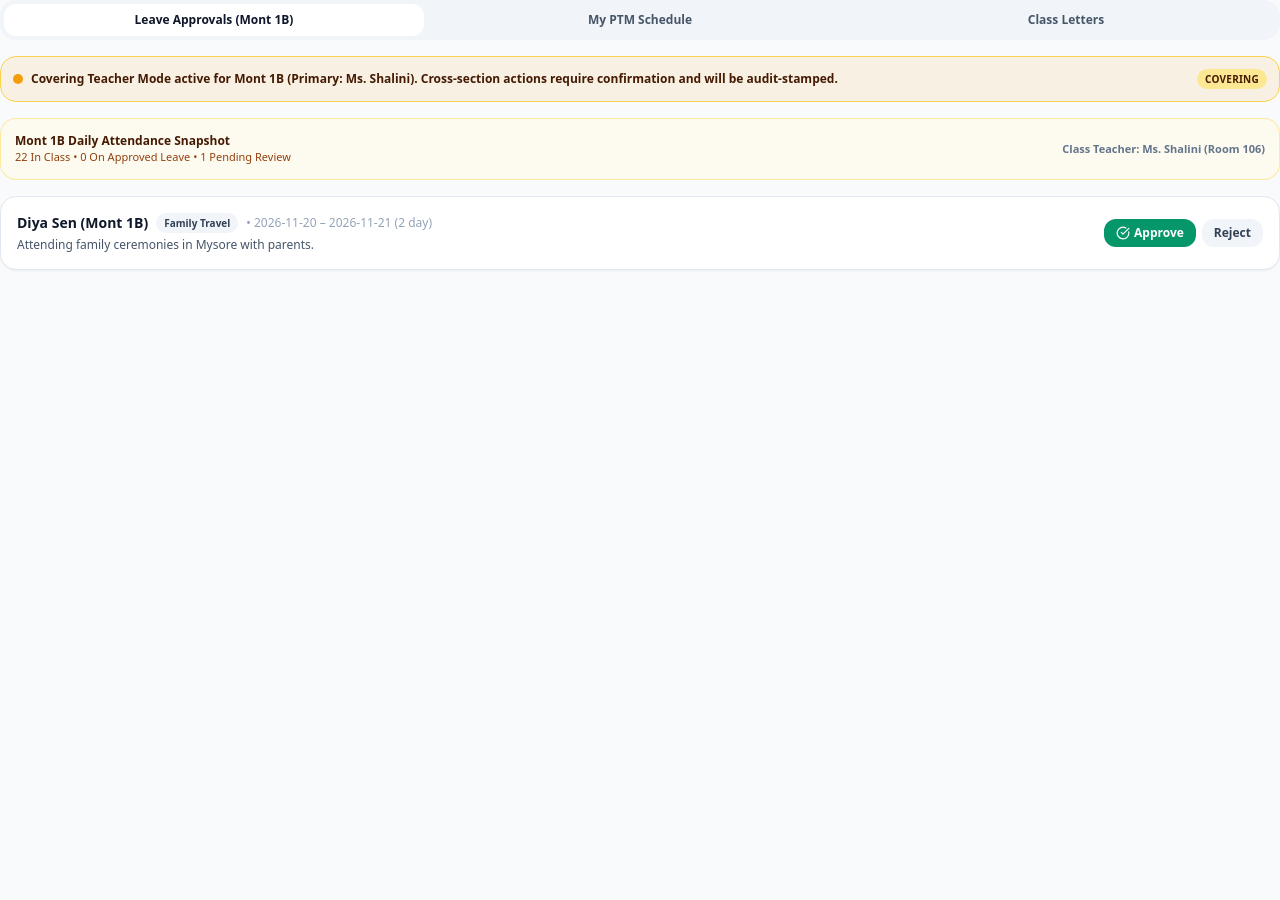
Suite: Covering Teacher Mode & Soft Guardrails › triggers soft guardrail confirmation modal on cross-section PTM slot deletion
Later steps or results of the test are not shown.
# Switch to PTM tab
Click the button "My PTM Schedule" at (640, 20), box top-left (430, 4), bottom-right (850, 36)
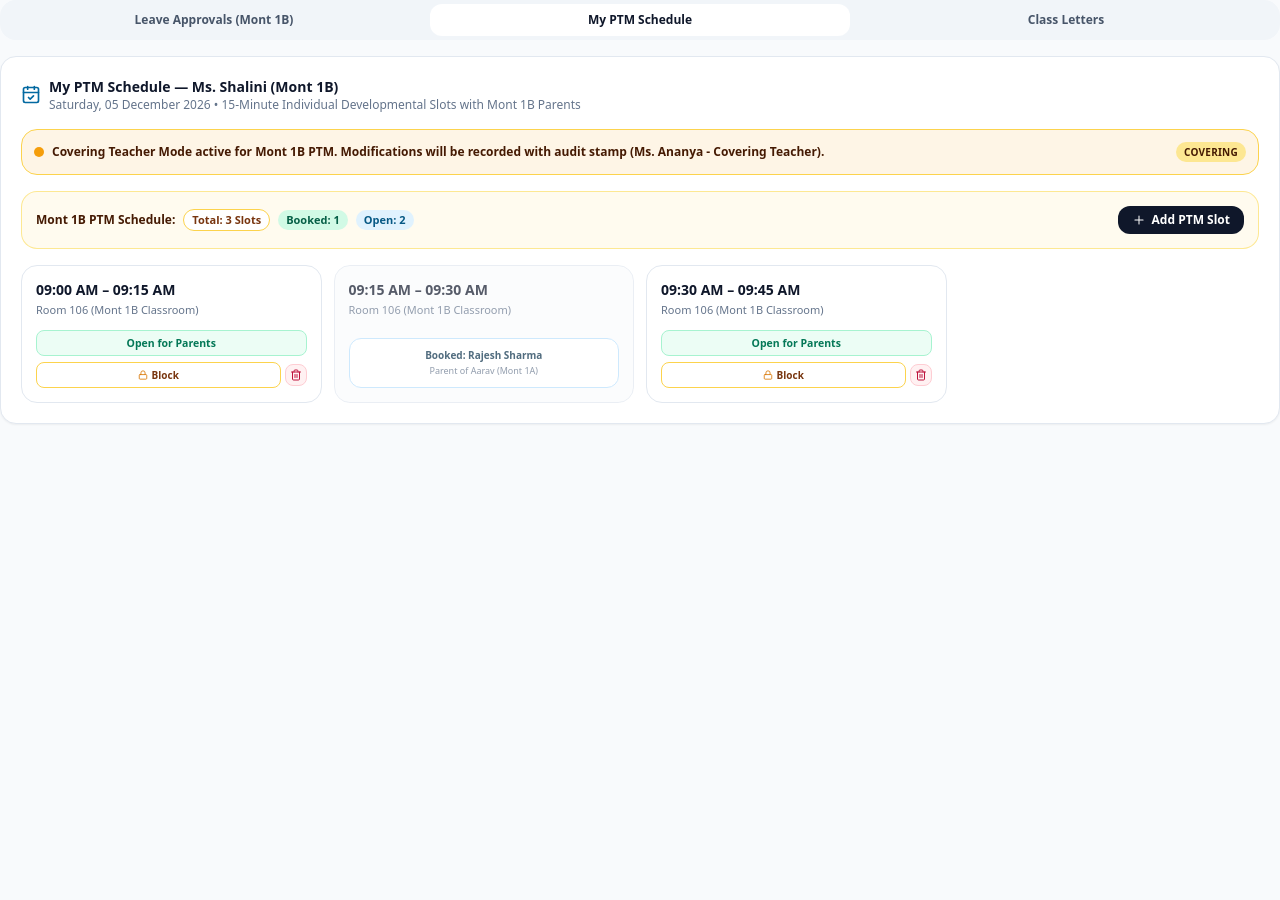
Expected: the button titled "Delete Slot" below "09:00 AM – 09:15 AM" is shown
Click the button titled "Delete Slot" below "09:00 AM – 09:15 AM" at (296, 375), box top-left (284, 364), bottom-right (306, 386)
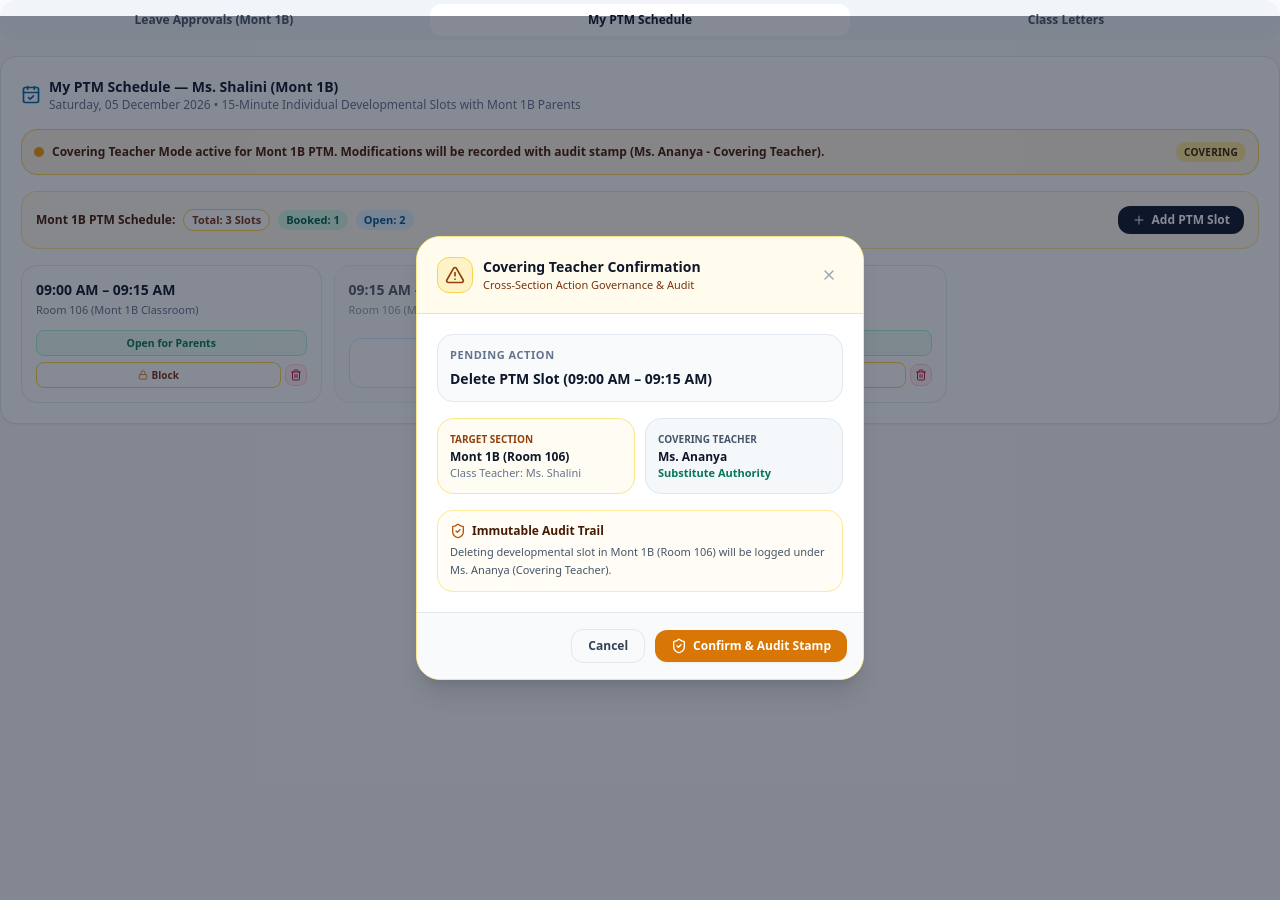
Expected: the heading "Covering Teacher Confirmation" is shown, top-left (483, 257), bottom-right (701, 277)
Expected: the text "Delete PTM Slot (09:00 AM – 09:15 AM)" is shown, top-left (450, 369), bottom-right (712, 388)
